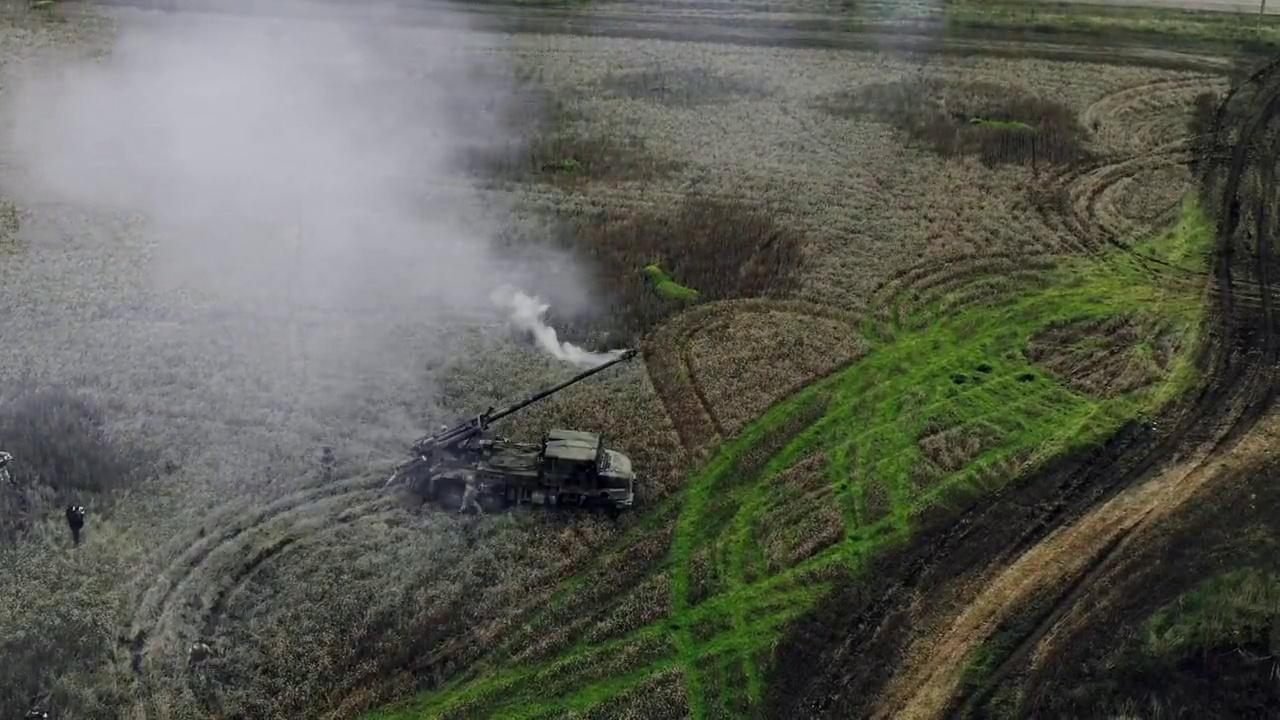person: (458, 476, 486, 524), (68, 504, 86, 546), (320, 444, 338, 482), (0, 450, 14, 486)
vehicle: (389, 344, 643, 518)
